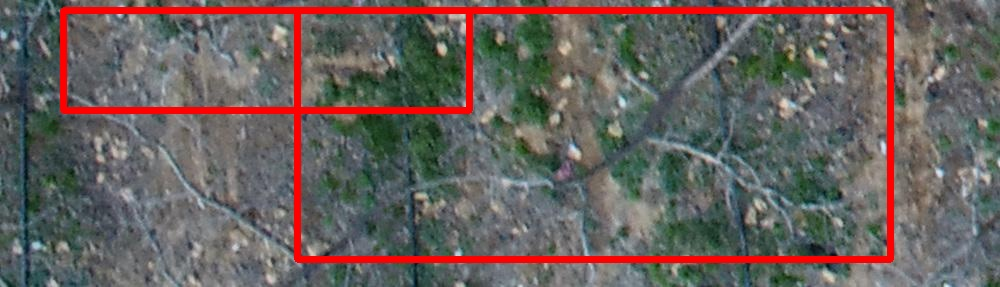apple: (297, 10, 890, 259), (63, 10, 469, 110)
